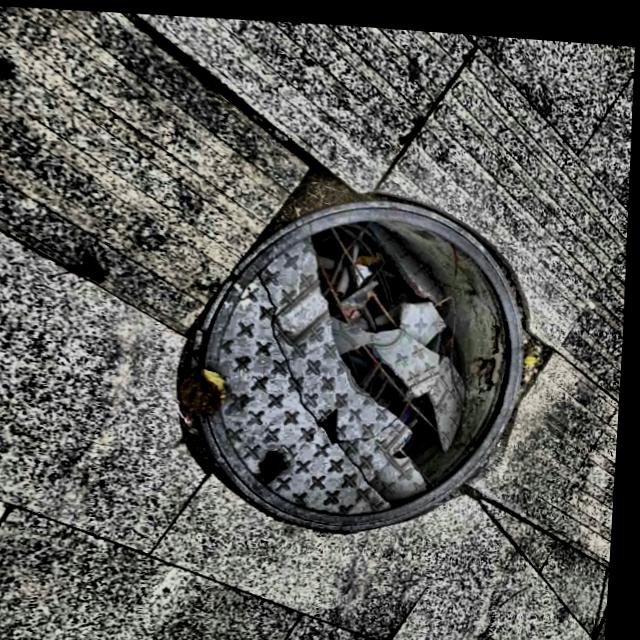open_manhole: (181, 195, 523, 532)
